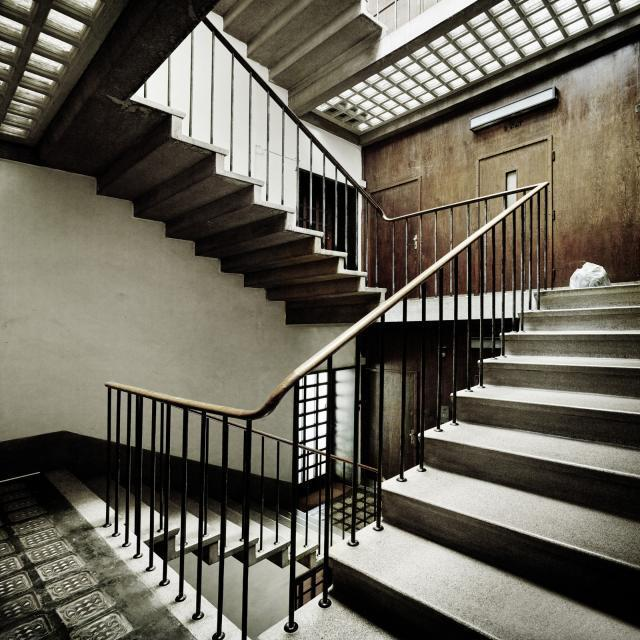stairs: (326, 279, 638, 639)
